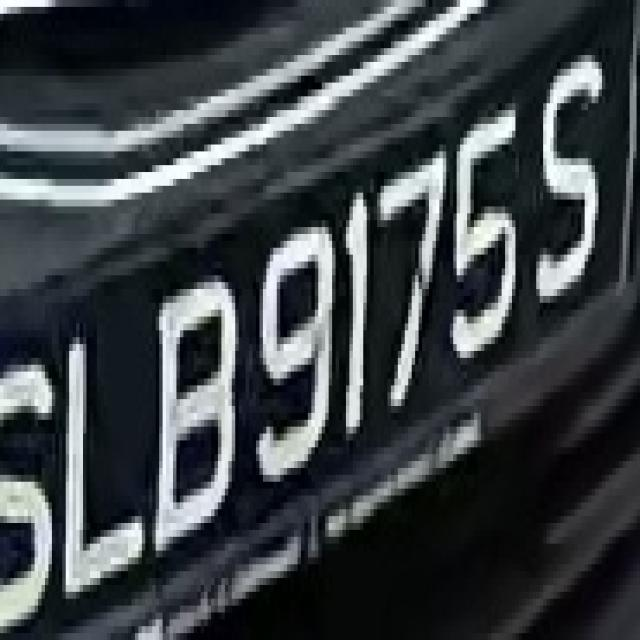1: (339, 158, 377, 475)
5: (453, 103, 519, 372)
7: (363, 137, 453, 440)
9: (256, 207, 339, 496)
B: (149, 262, 249, 564)
L: (49, 296, 152, 606)
S: (529, 41, 609, 317), (7, 323, 52, 640)
